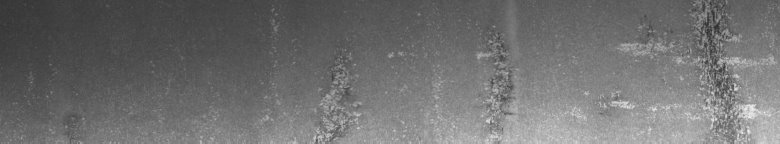hc: (604, 4, 744, 136)
